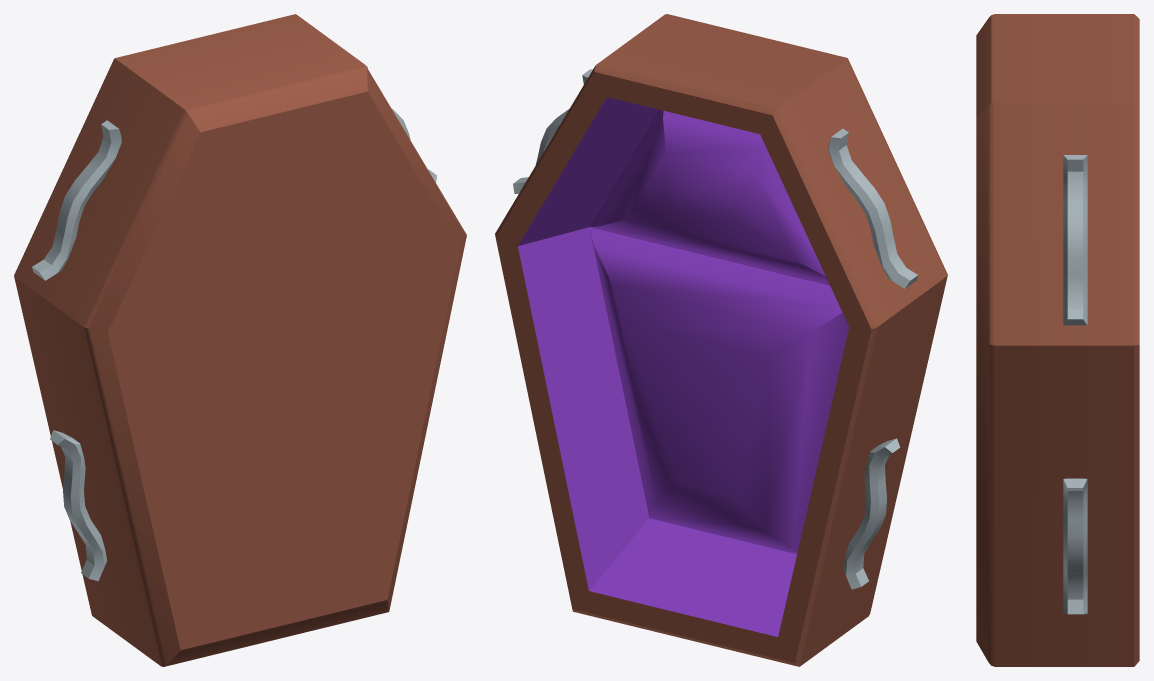
The model's file is coffinA_bottom.fbx.
The picture shows the model from 3 angles, left to right: view 1: azimuth 30°, elevation 25°; view 2: azimuth 150°, elevation 25°; view 3: azimuth 270°, elevation 25°; orthographic projection.
Visible parts, largest first — view 1: coffinA_bottom; view 2: coffinA_bottom; view 3: coffinA_bottom.
Boxes of the visible parts, left/top/right/bottom form: coffinA_bottom: left=14, top=14, right=466, bottom=666; coffinA_bottom: left=495, top=14, right=947, bottom=666; coffinA_bottom: left=976, top=14, right=1139, bottom=666.
Bounding box in the file's own units: 1.51 × 0.5355 × 2.
